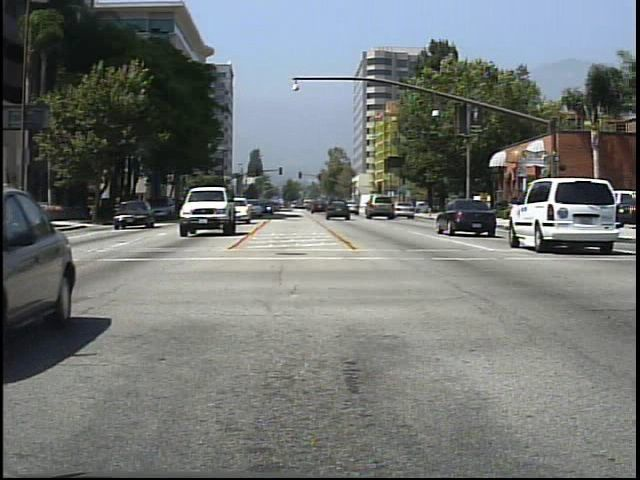person: (508, 192, 527, 231), (462, 191, 480, 226)
